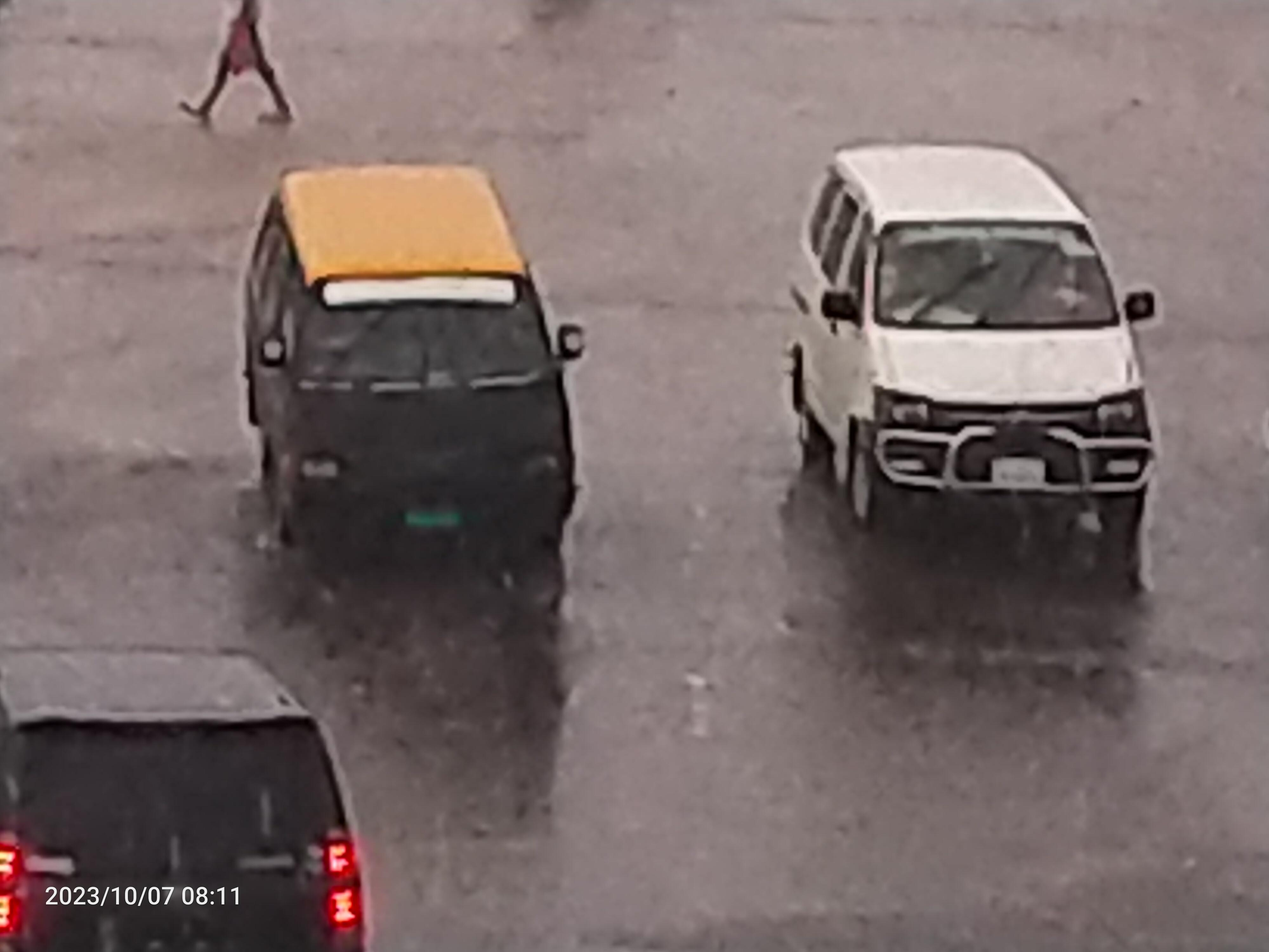Car: (128, 110, 622, 627), (752, 105, 1215, 640), (0, 606, 405, 952)
